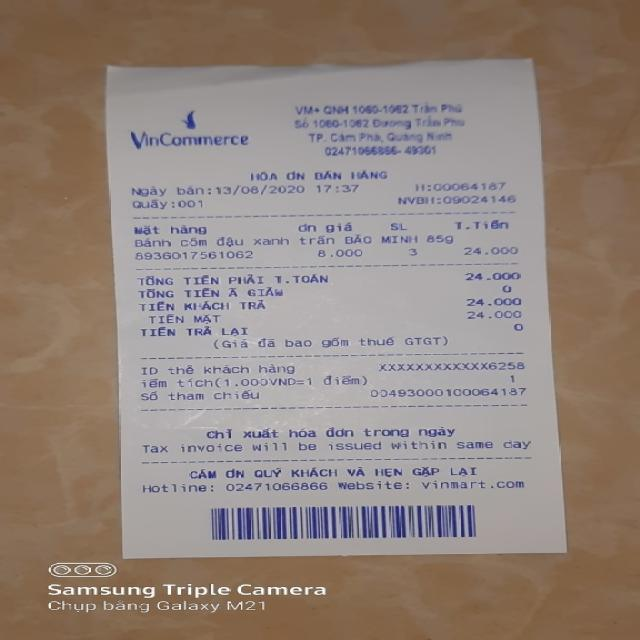Date: (214, 183, 307, 196)
Store_Name: (126, 128, 253, 153)
amount_number: (464, 270, 524, 282)
label_total: (134, 272, 333, 286)
